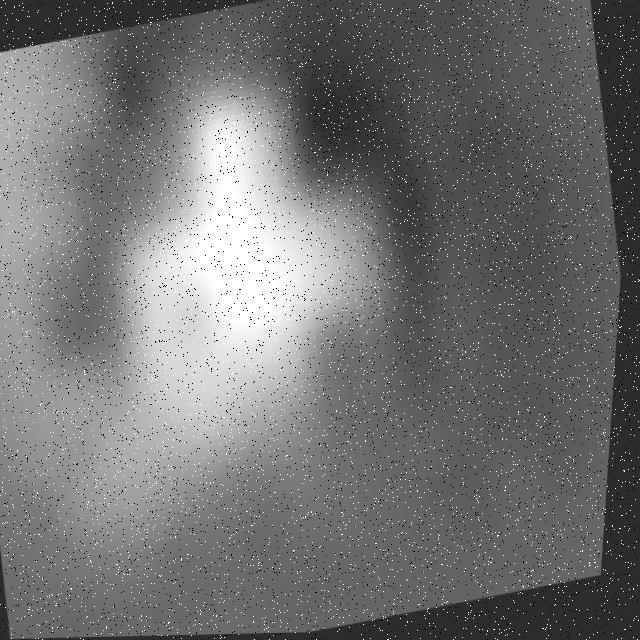person: (83, 29, 439, 502)
